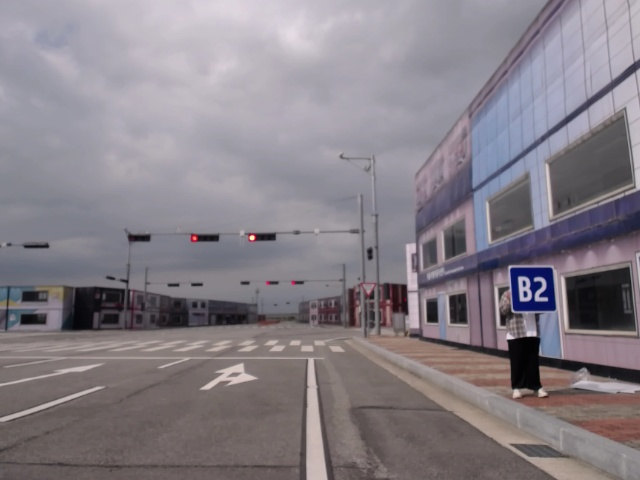delivery_b2: (508, 265, 559, 314)
red_4: (188, 232, 217, 244), (248, 233, 278, 243), (291, 279, 307, 287), (264, 279, 280, 286)
